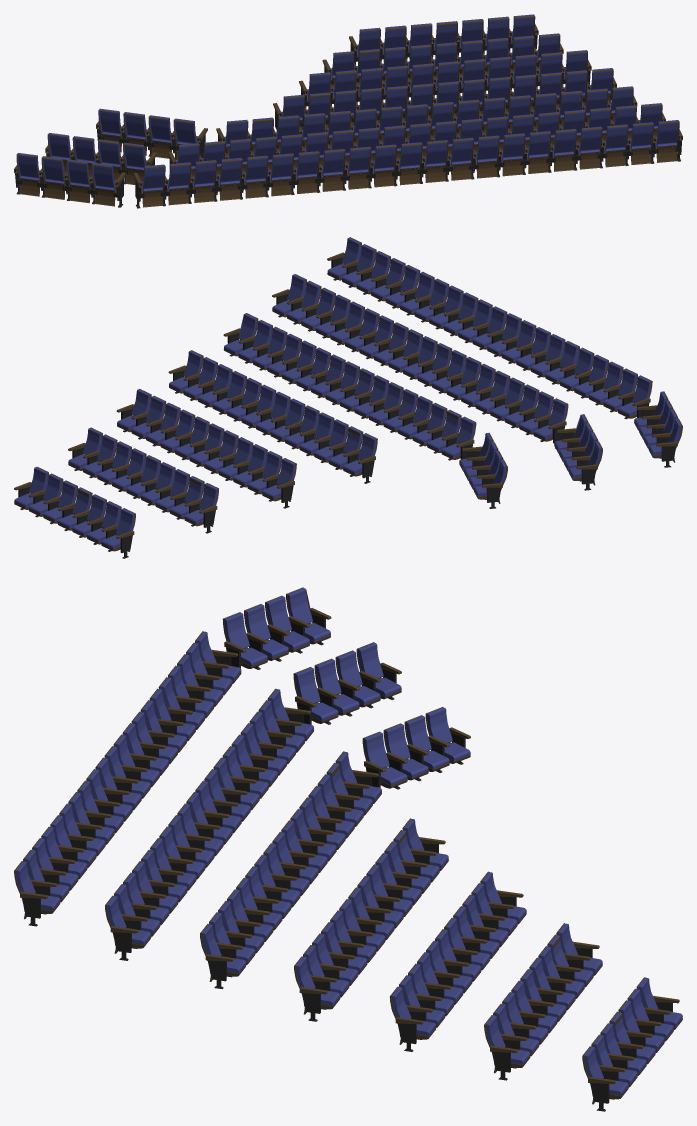
Rendered from LowPoly_MiddleRight_Seating.fbx.
The picture shows the model from 3 angles, top to bottom: view 1: azimuth 30°, elevation 25°; view 2: azimuth 150°, elevation 25°; view 3: azimuth 270°, elevation 25°; orthographic projection. The views are drawn at different scales.
Parts seen in each view (by area): view 1: Middle Right; view 2: Middle Right; view 3: Middle Right.
Part boxes in pixels (left/top/right/bottom): Middle Right: left=14, top=14, right=682, bottom=208; Middle Right: left=14, top=237, right=682, bottom=558; Middle Right: left=14, top=587, right=682, bottom=1111.
Bounding box in the file's own units: 1481 × 343 × 1190.
